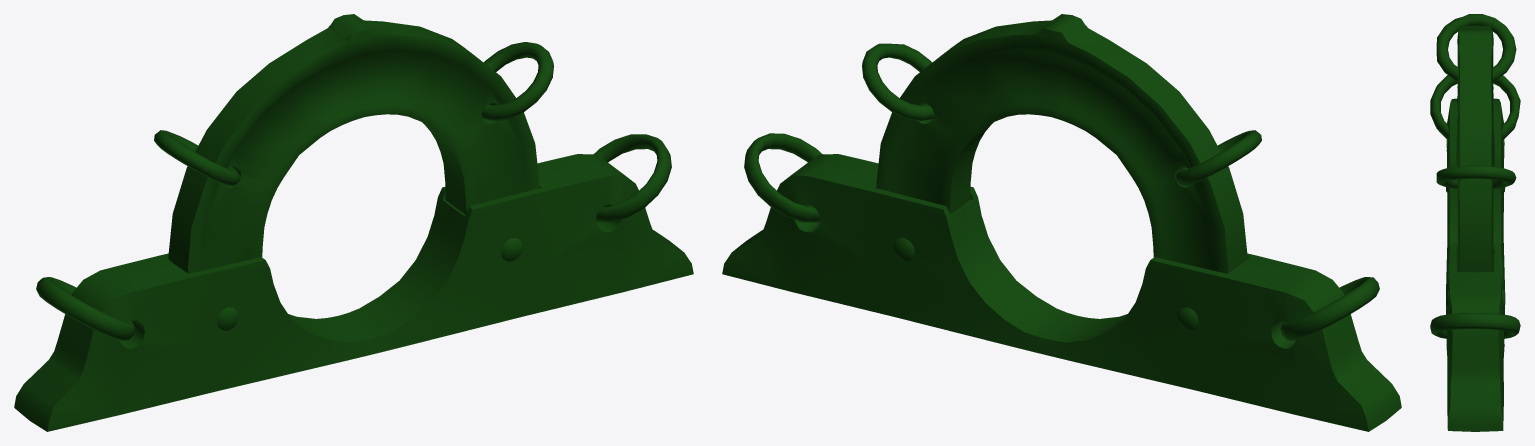
3 views of the same model, side by side, from view 1: azimuth 30°, elevation 25°; view 2: azimuth 150°, elevation 25°; view 3: azimuth 270°, elevation 25° (orthographic). The views are drawn at different scales.
Parts seen in each view (by area): view 1: 对象002; view 2: 对象002; view 3: 对象002.
Part boxes in pixels (left/top/right/bottom): 对象002: left=14, top=14, right=693, bottom=431; 对象002: left=722, top=14, right=1401, bottom=431; 对象002: left=1430, top=14, right=1520, bottom=431.
Bounding box in the file's own units: 212 × 99.89 × 30.58.
